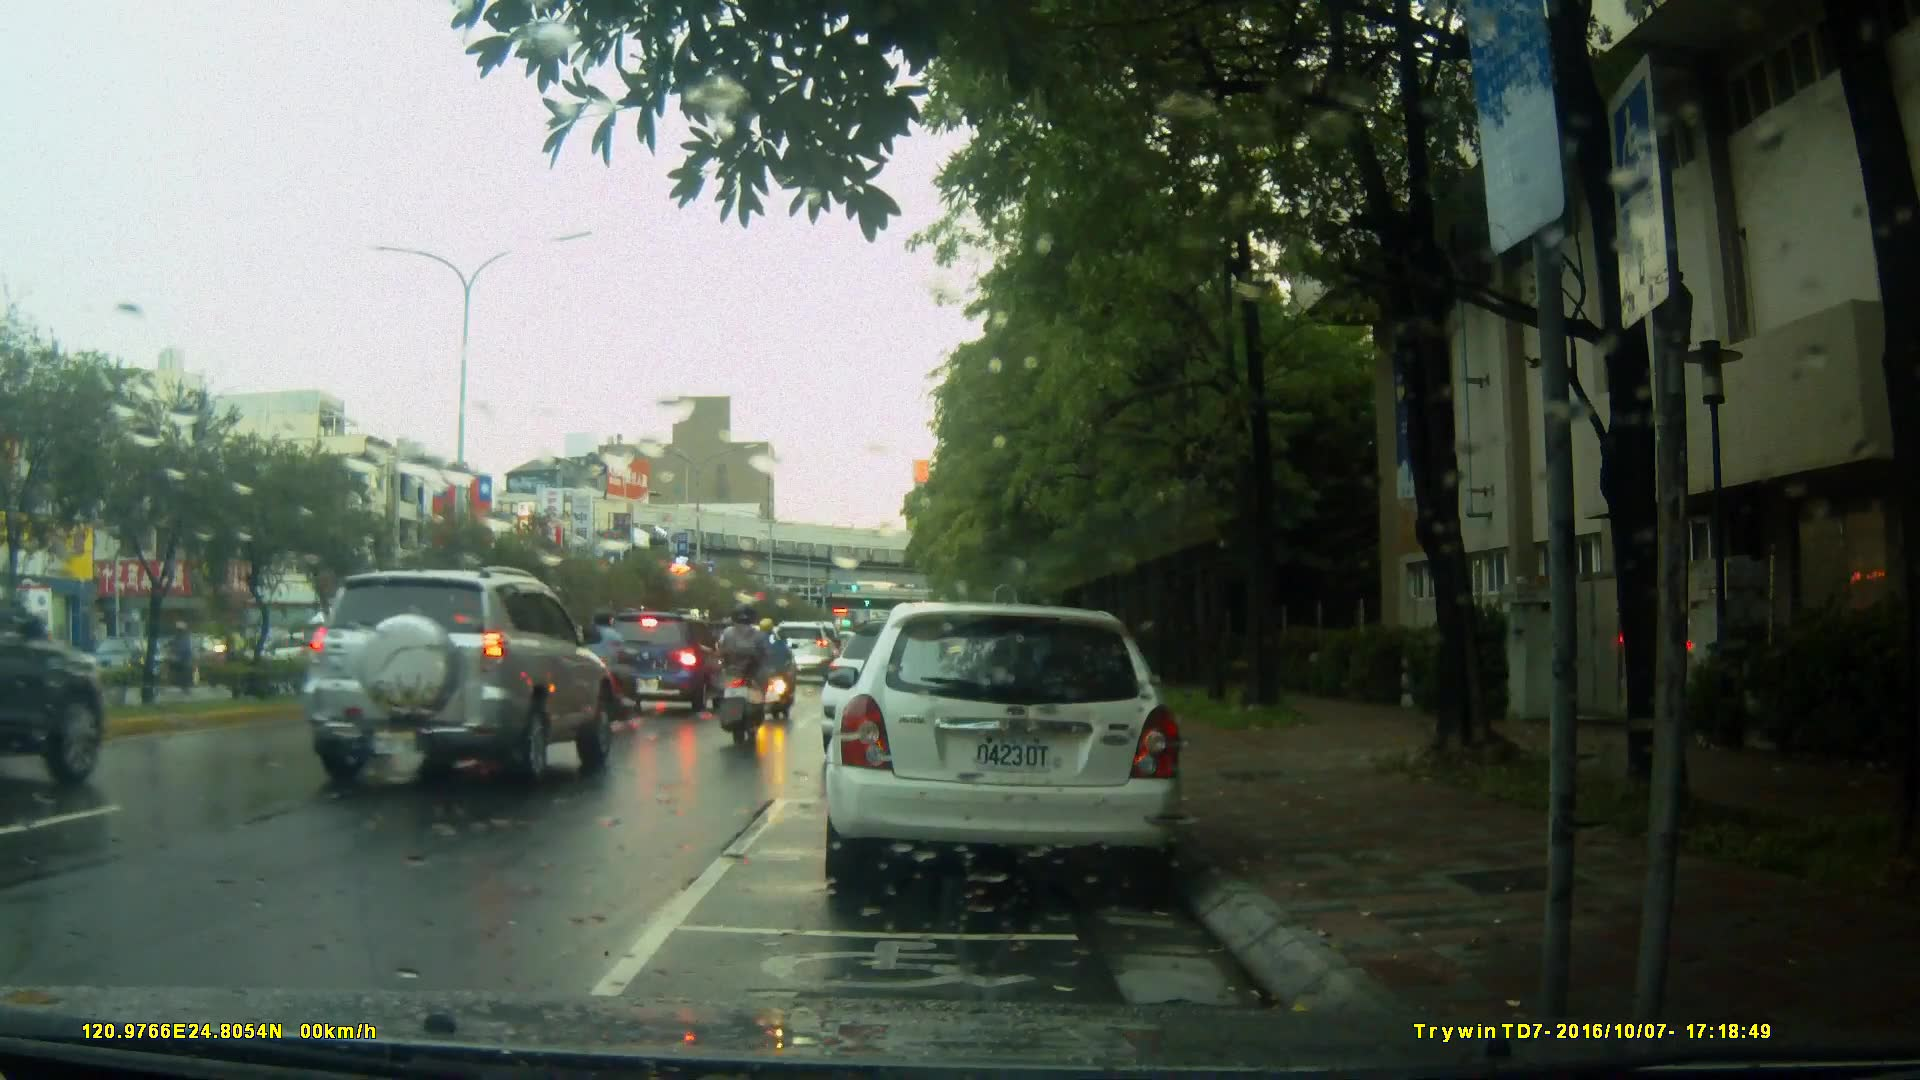rider: (715, 605, 778, 744), (580, 610, 638, 723), (747, 614, 790, 720)
vehicle: (820, 602, 1188, 898), (293, 562, 617, 790), (1, 545, 113, 802), (598, 609, 738, 714), (134, 634, 239, 689)
